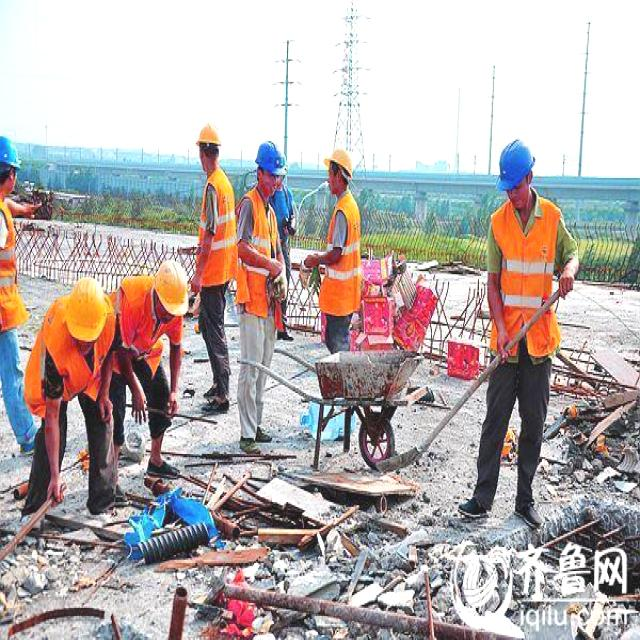face_nomask: (504, 180, 534, 210), (258, 167, 279, 202), (322, 170, 341, 196)
hand_noglove: (127, 383, 149, 427), (21, 194, 46, 229), (43, 474, 66, 512), (93, 391, 115, 427), (492, 329, 512, 367), (558, 271, 575, 300), (266, 257, 282, 287), (188, 268, 202, 298), (304, 250, 321, 274), (167, 387, 180, 417)
head_helmet: (66, 278, 106, 340), (154, 253, 188, 314), (496, 136, 537, 180), (256, 140, 287, 172), (325, 144, 352, 170), (1, 135, 21, 165), (196, 120, 222, 143)
person: (492, 142, 558, 524), (29, 274, 117, 512), (115, 253, 188, 483), (236, 140, 282, 458), (188, 119, 234, 415), (1, 136, 40, 444), (318, 144, 356, 350)
shoes: (508, 494, 545, 533), (455, 491, 493, 526), (198, 394, 233, 419), (235, 429, 264, 458)
vest: (497, 213, 555, 350), (246, 194, 276, 303), (32, 329, 79, 391), (205, 175, 232, 281), (1, 204, 24, 324), (336, 199, 357, 308), (122, 277, 150, 353)
